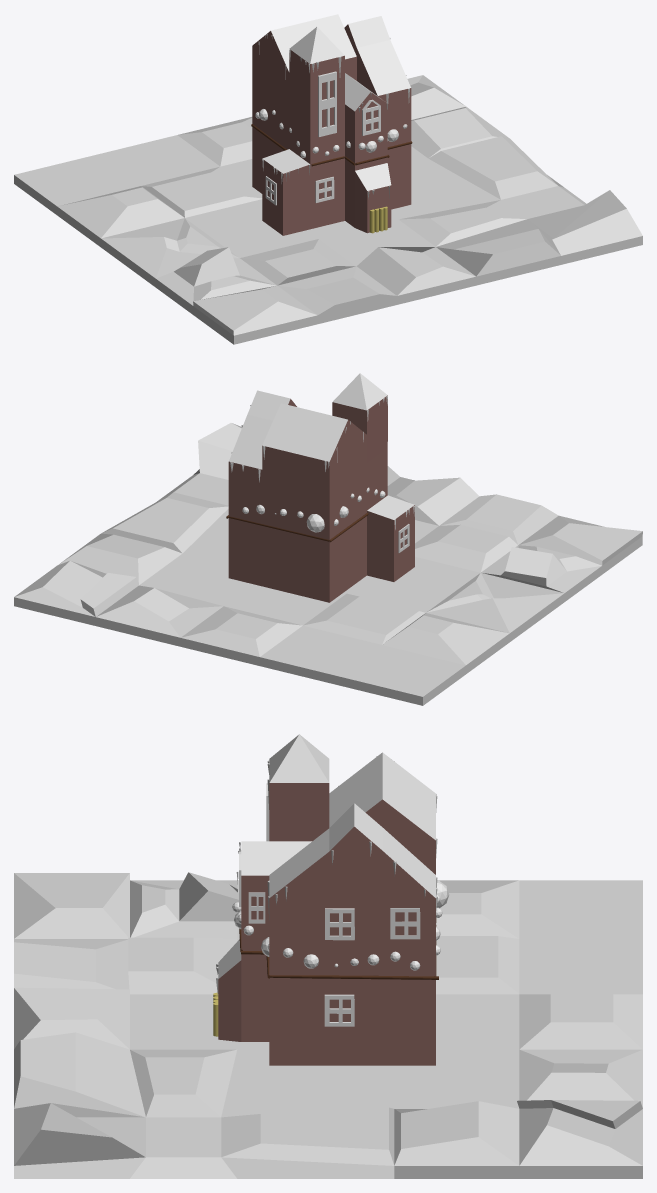
The model's file is gingerbread.fbx.
The picture shows the model from 3 angles, top to bottom: view 1: azimuth 30°, elevation 25°; view 2: azimuth 150°, elevation 25°; view 3: azimuth 270°, elevation 25°; orthographic projection. The views are drawn at different scales.
Parts seen in each view (by area): view 1: Plane.001; view 2: Plane.001; view 3: Plane.001.
Part boxes in pixels (x1=…): Plane.001: x1=14, y1=14, x2=642, y2=344; Plane.001: x1=14, y1=373, x2=642, y2=705; Plane.001: x1=14, y1=734, x2=642, y2=1178.
Size of the model in its own units: 387 by 180 by 358.
